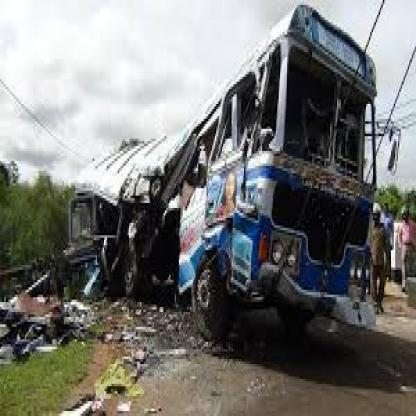accident: (47, 0, 405, 371)
